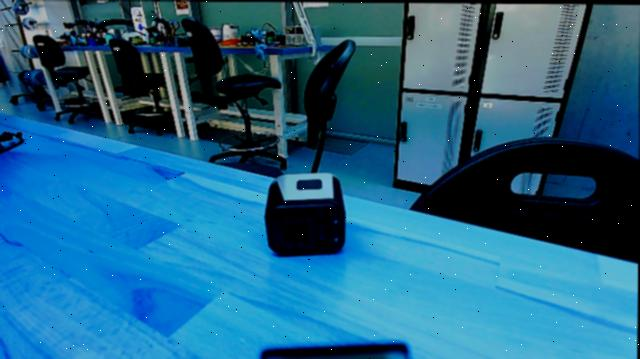adapter: (263, 172, 349, 258)
